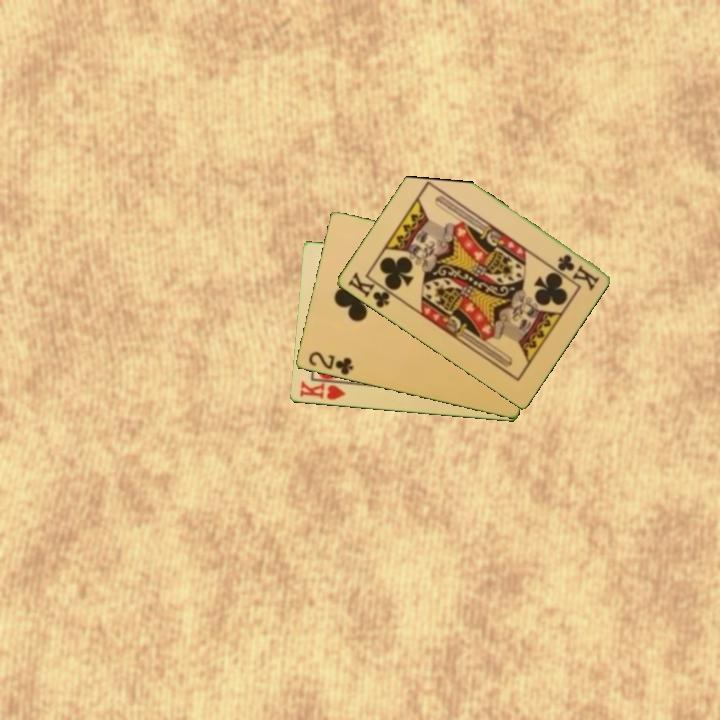2c: (305, 348, 356, 378)
Kc: (344, 269, 399, 311), (553, 251, 602, 293)
Kh: (296, 377, 353, 403)
